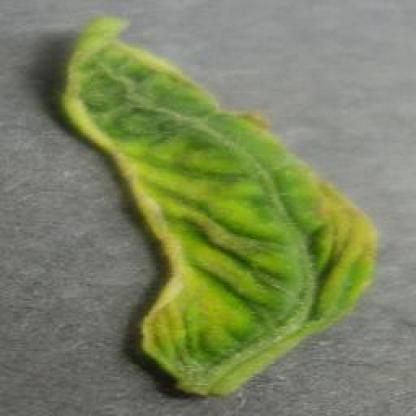good leaf: (30, 19, 388, 416)
